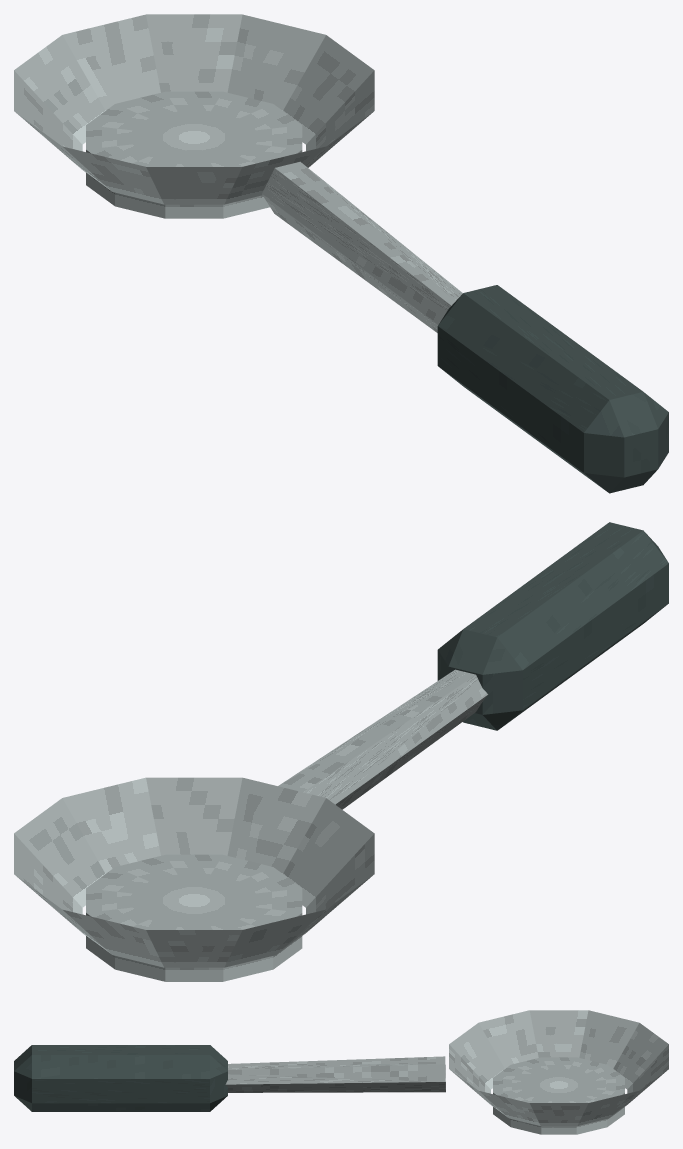
The model's file is ladle.glb.
3 views of the same model, one above another, from view 1: azimuth 30°, elevation 25°; view 2: azimuth 150°, elevation 25°; view 3: azimuth 270°, elevation 25° (orthographic). The views are drawn at different scales.
Visible parts, largest first — view 1: block_bowl lip, block_handle, block_bowl bottom, block_steel shank; view 2: block_bowl lip, block_handle, block_bowl bottom, block_steel shank; view 3: block_bowl lip, block_handle, block_steel shank, block_bowl bottom.
Part boxes in pixels (x1,y1,x2,y2): block_bowl lip: (14, 14, 374, 204); block_handle: (437, 285, 668, 493); block_bowl bottom: (86, 91, 302, 218); block_steel shank: (262, 161, 462, 332); block_bowl lip: (14, 777, 374, 967); block_handle: (437, 522, 668, 730); block_bowl bottom: (86, 854, 302, 981); block_steel shank: (278, 669, 487, 809); block_bowl lip: (449, 1010, 668, 1126); block_handle: (14, 1045, 227, 1111); block_steel shank: (225, 1056, 445, 1092); block_bowl bottom: (493, 1057, 624, 1134).
Size of the model in its own units: 0.0734 by 0.021 by 0.2187.
Materials: 2 (2 with a texture image).
